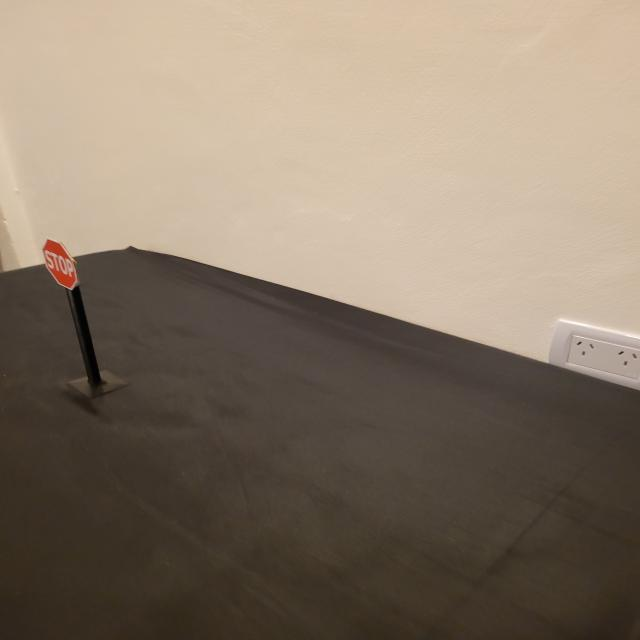stop: (41, 238, 80, 292)
